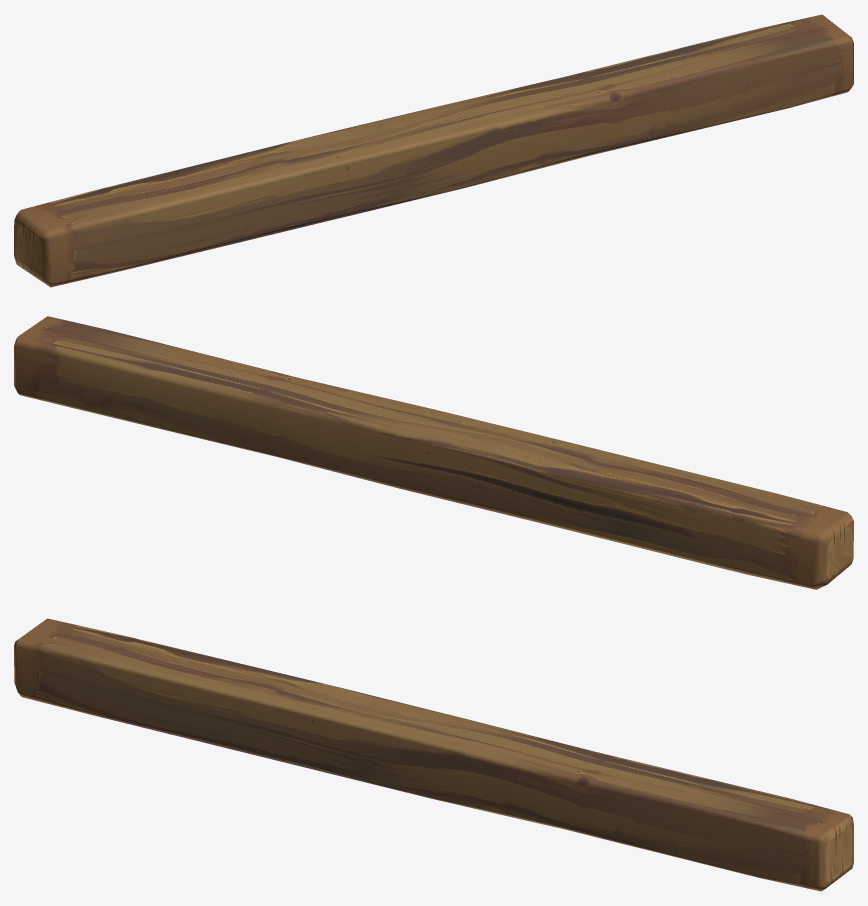
The model's file is SM_MOD_basic_beam_square_town_08.fbx.
3 views of the same model, one above another, from view 1: azimuth 30°, elevation 25°; view 2: azimuth 150°, elevation 25°; view 3: azimuth 330°, elevation 25° (orthographic).
Parts seen in each view (by area): view 1: SM_MOD_basic_beam_square_town_08_LOD0; view 2: SM_MOD_basic_beam_square_town_08_LOD0; view 3: SM_MOD_basic_beam_square_town_08_LOD0.
Boxes of the visible parts, bbox=[...] form: SM_MOD_basic_beam_square_town_08_LOD0: bbox=[14, 14, 853, 287]; SM_MOD_basic_beam_square_town_08_LOD0: bbox=[14, 316, 853, 589]; SM_MOD_basic_beam_square_town_08_LOD0: bbox=[14, 618, 853, 891].
Size of what is drawn, in the model's own units: 300 by 20.42 by 22.51.
